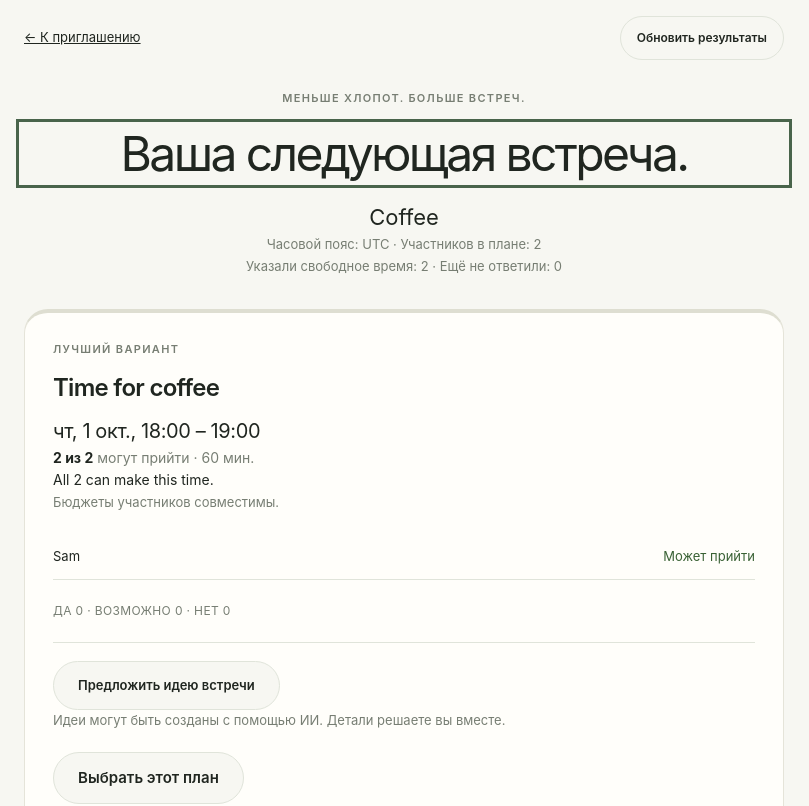
Test case: group results › requires an explicit creator confirmation and then closes controls
This screenshot has width=809, height=806.
Click the button "Выбрать этот план" at (148, 778), box left=53, top=752, right=244, bottom=804
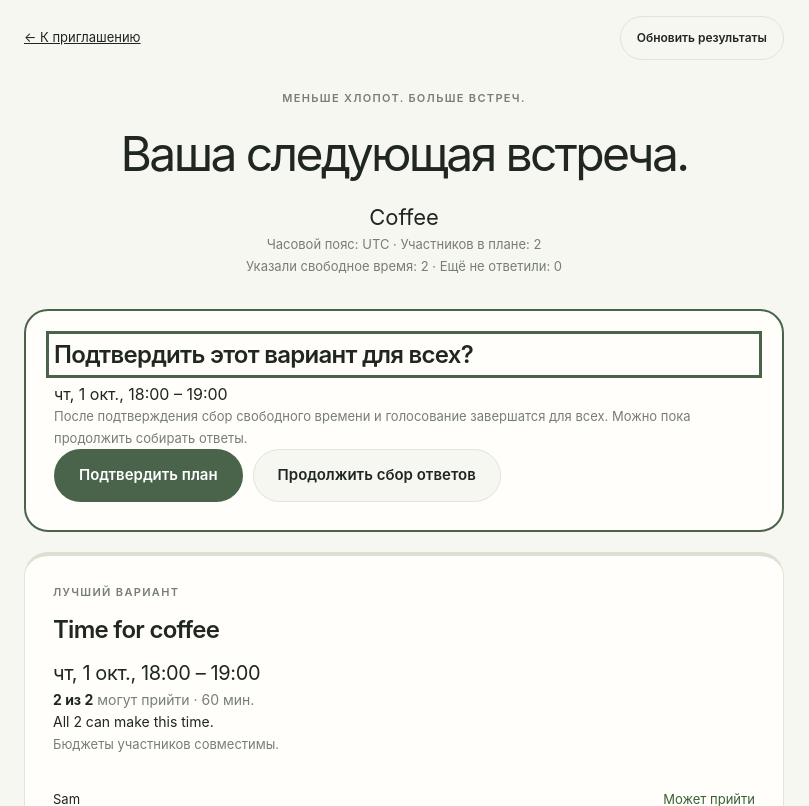
Click the button "Подтвердить план" at (148, 476), box left=54, top=449, right=243, bottom=502
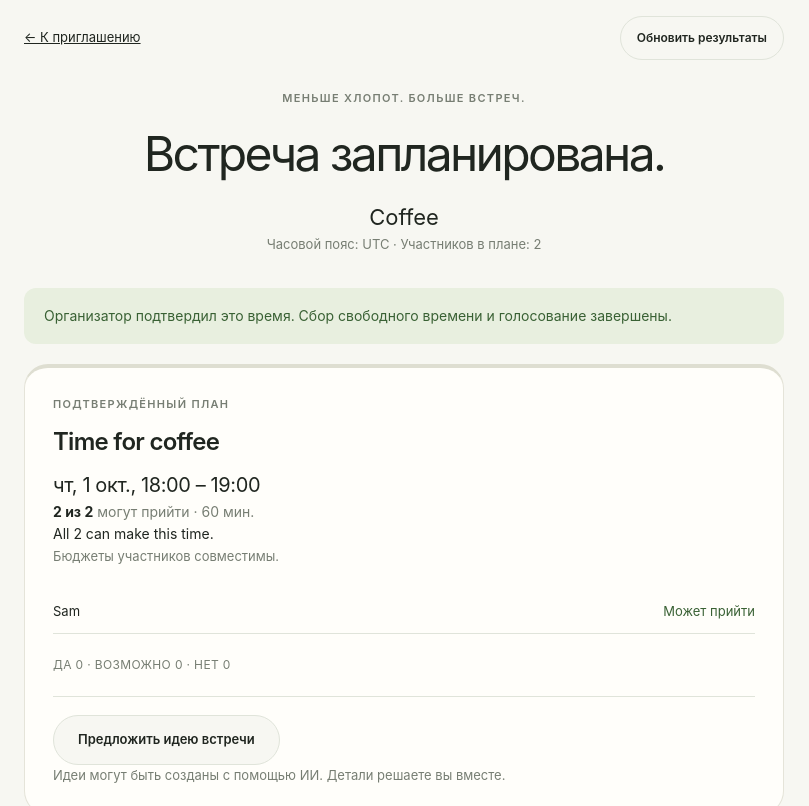
Check: the heading "Встреча запланирована." is shown, box left=144, top=124, right=664, bottom=182
